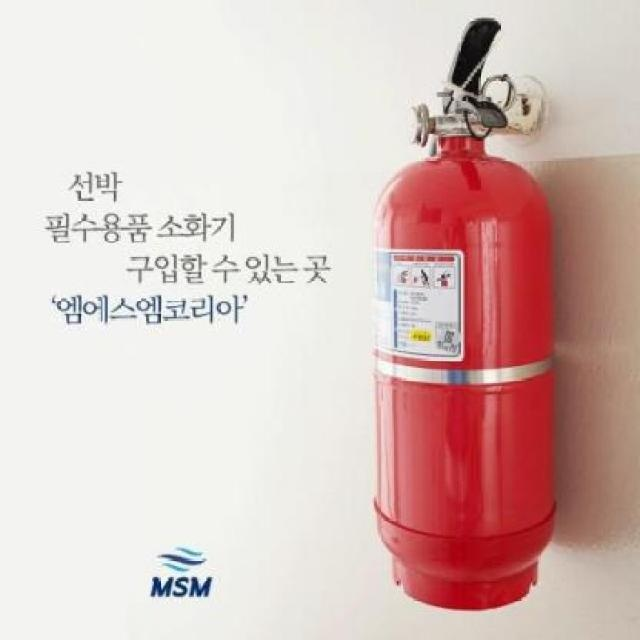fire extinguisher: (373, 16, 555, 612)
